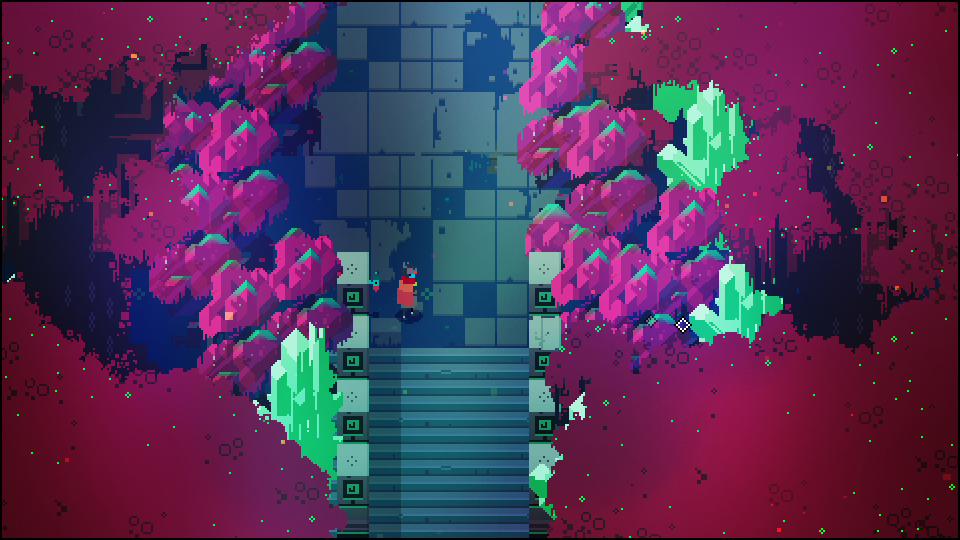player: (393, 261, 421, 321)
